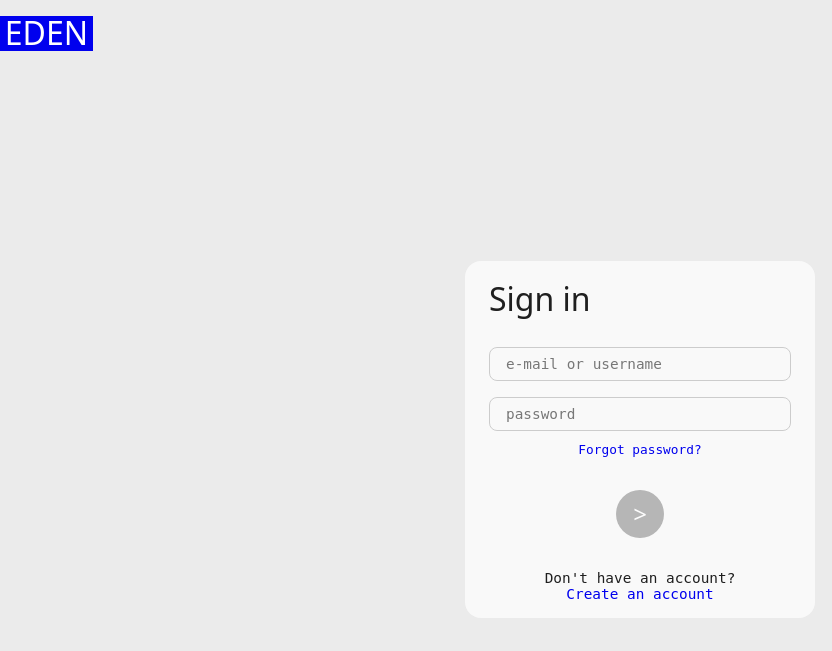
it: LoginPage › submits credentials to the backend and shows the signed-in user
Type "emma" into the field named "Email or username" at (640, 364), box x1=489 y1=346 x2=791 y2=380
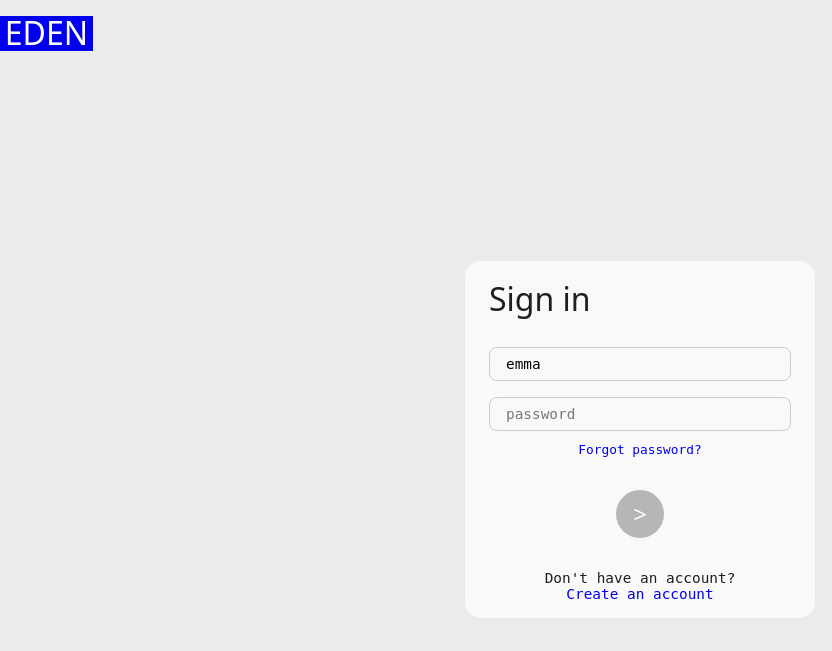
Type "Password123!" into the password field labelled "password" at (640, 414), box x1=489 y1=396 x2=791 y2=430
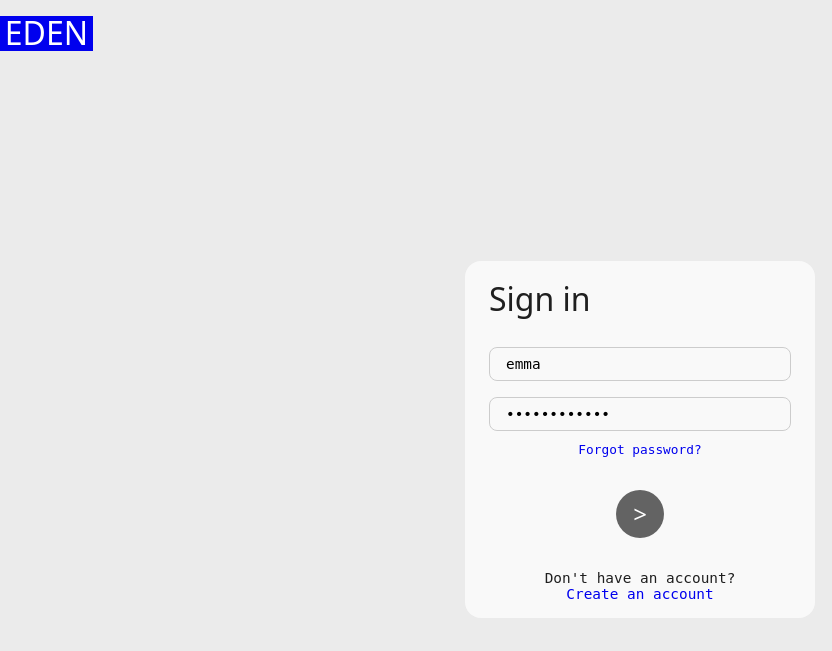
Click the button named "Sign in" at (640, 514), box x1=616 y1=490 x2=664 y2=538
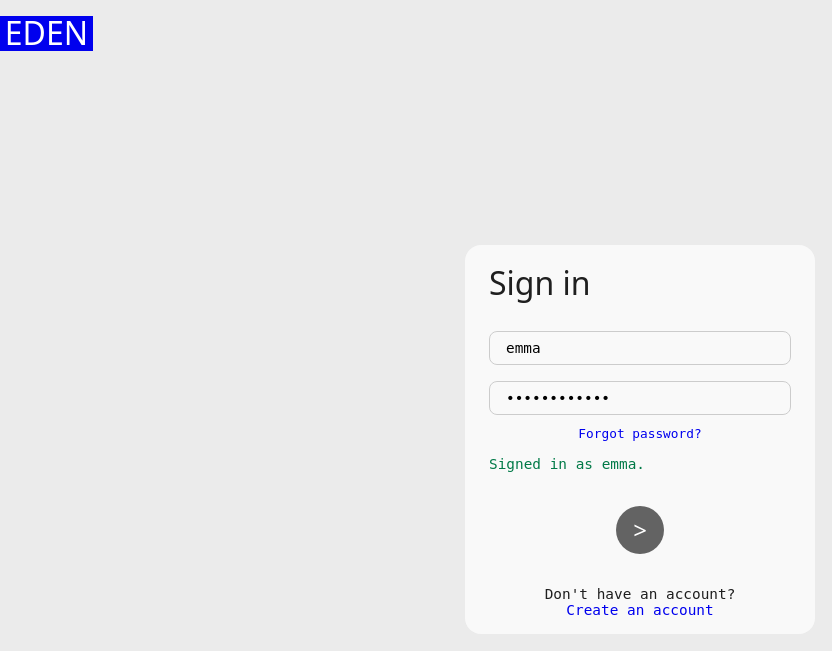
Result: the message reads "Signed in as emma." at x1=489 y1=456 x2=645 y2=472
